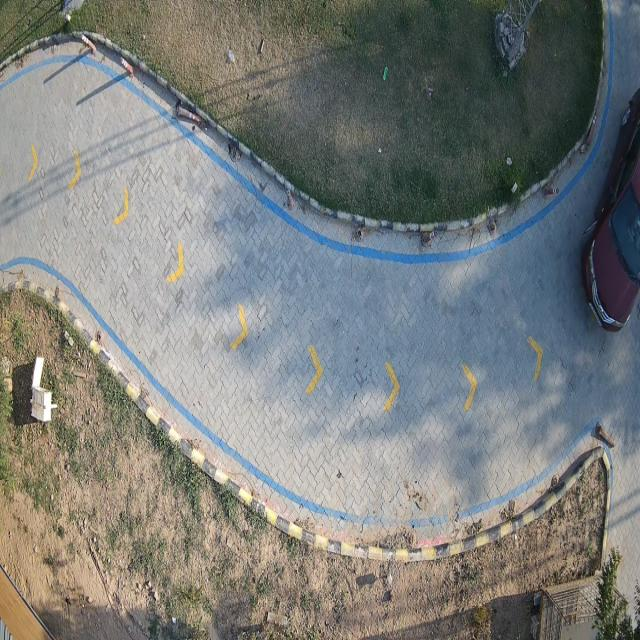car: (582, 118, 640, 334)
